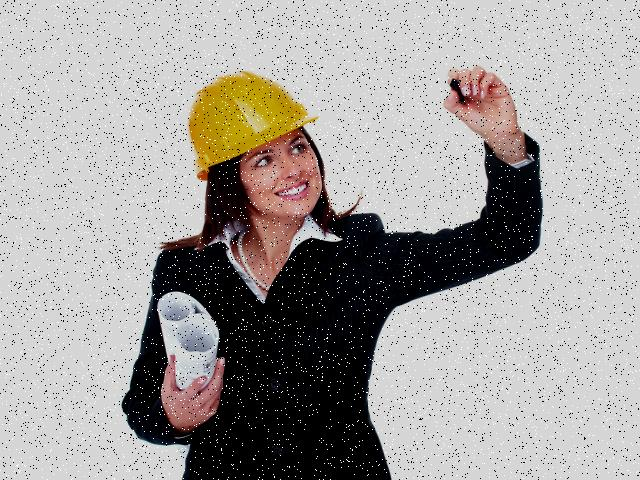Helmet: (183, 66, 326, 189)
